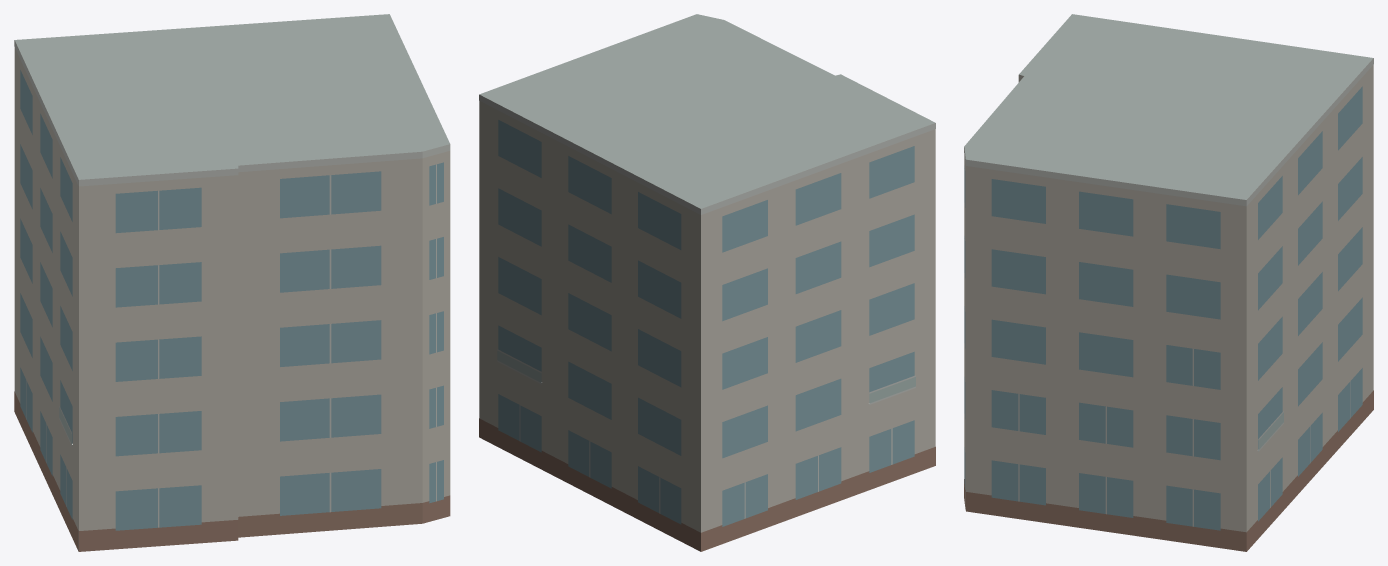
Rendered from survey-upis-32852778.glb.
The picture shows the model from 3 angles, left to right: view 1: azimuth 30°, elevation 25°; view 2: azimuth 150°, elevation 25°; view 3: azimuth 270°, elevation 25°; orthographic projection. The views are drawn at different scales.
Parts seen in each view (by area): view 1: survey-upis-32852778.tmp; view 2: survey-upis-32852778.tmp; view 3: survey-upis-32852778.tmp.
Boxes of the visible parts, x1,y1,x2,y2 form: survey-upis-32852778.tmp: (14,14,450,551); survey-upis-32852778.tmp: (479,14,935,551); survey-upis-32852778.tmp: (964,14,1373,551).
Bounding box in the file's own units: 15.55 × 13.7 × 14.46.
